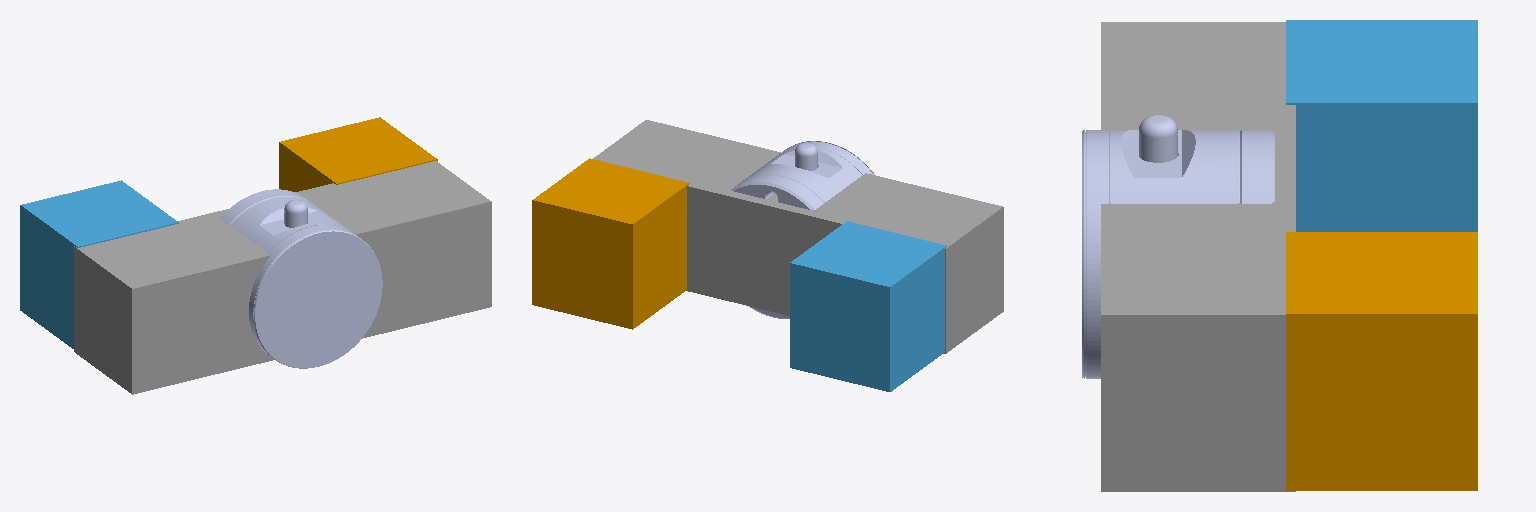
robot.urdf — ur3:
<?xml version="1.0"?>
<robot name="ur3"  xmlns:xacro="http://www.ros.org/wiki/xacro">

  <link name="base_link">
    <visual>
    
      <geometry>
       
        <mesh filename="package://proper_test/meshes/daes/base.dae" />
      </geometry>
    </visual>
    <collision>
    	<geometry>
    		<mesh filename="package://proper_test/meshes/daes/base.dae" />
    	</geometry>
    </collision>
  </link>
  
    <link name="link1">
    <visual>
      <geometry>
        <mesh filename="package://proper_test/meshes/daes/link1.dae" />
      </geometry>
    </visual>
	<collision>
    	<geometry>
    		<mesh filename="package://proper_test/meshes/daes/link1.dae" />
    	</geometry>
    </collision>
  </link>

  <joint name="joint1" type="revolute">
    <parent link="base_link"/>
    <child link="link1"/>
	<limit lower="-3.1415" upper="3.1415" effort="3" velocity="0.1"/>
	<axis xyz="0 0 1"/>
    <origin xyz="0 0 0.0962"/>
  </joint>
  
    
    <link name="link2">
    <visual>
      <geometry>
        <mesh filename="package://proper_test/meshes/daes/link2.dae" />
      </geometry>
    </visual>
	<collision>
    	<geometry>
    		<mesh filename="package://proper_test/meshes/daes/link2.dae" />
    	</geometry>
    </collision>
  </link>
  
    <joint name="joint2" type="revolute">
    <parent link="link1"/>
    <child link="link2"/>
    <origin xyz="0 0.0642 0.0557"/>
    <limit lower="-3.1415" upper="3.1415" effort="3" velocity="0.1"/>
    <axis xyz="0 1 0"/>
  </joint>
  
  
      <link name="link3">
    <visual>
      <geometry>
        <mesh filename="package://proper_test/meshes/daes/link3.dae" />
      </geometry>
    </visual>
	<collision>
    	<geometry>
    		<mesh filename="package://proper_test/meshes/daes/link3.dae" />
    	</geometry>
    </collision>
  </link>
  
    <joint name="joint3" type="revolute">
    <parent link="link2"/>
    <child link="link3"/>
    <origin xyz="0 0.00465 0.2437"/>
    <limit lower="-3.1415" upper="3.1415" effort="3" velocity="0.1"/>
     <axis xyz="0 1 0"/>
  </joint>
  
    <link name="link4">
    <visual>
      <geometry>
        <mesh filename="package://proper_test/meshes/daes/link4.dae" />
      </geometry>
    </visual>
	<collision>
    	<geometry>
    		<mesh filename="package://proper_test/meshes/daes/link4.dae" />
    	</geometry>
    </collision>
  </link>
  
    <joint name="joint4" type="revolute">
    <parent link="link3"/>
    <child link="link4"/>
    <origin xyz="0 0.00286 0.213"/>
    <limit lower="-3.1415" upper="3.1415" effort="3" velocity="0.1"/>
     <axis xyz="0 1 0"/>
  </joint>
  
      <link name="link5">
    <visual>
      <geometry>
        <mesh filename="package://proper_test/meshes/daes/link5.dae" />
      </geometry>
    </visual>
	<collision>
    	<geometry>
    		<mesh filename="package://proper_test/meshes/daes/link5.dae" />
    	</geometry>
    </collision>
  </link>
  
    <joint name="joint5" type="revolute">
    <parent link="link4"/>
    <child link="link5"/>
    <origin xyz="0 0.05949 0.0455"/>
    <limit lower="-3.1415" upper="3.1415" effort="3" velocity="0.1"/>
     <axis xyz="0 0 1"/>
  </joint>
  
    
      <link name="link6">
    <visual>
      <geometry>
        <mesh filename="package://proper_test/meshes/daes/link6.dae" />
      </geometry>
    </visual>
	<collision>
    	<geometry>
    		<mesh filename="package://proper_test/meshes/daes/link6.dae" />
    	</geometry>
    </collision>
  </link>
  
    <joint name="joint6" type="revolute">
    <parent link="link5"/>
    <child link="link6"/>
    <origin xyz="0 0.0430 0.0408"/>
    <limit lower="-3.1415" upper="3.1415" effort="3" velocity="0.1"/>
     <axis xyz="0 1 0"/>
  </joint>
  
        <link name="gripperBase">
    <visual>
      <geometry>
        <mesh filename="package://proper_test/meshes/daes/gripperBase.dae" />
      </geometry>
    </visual>
	<collision>
    	<geometry>
    		<mesh filename="package://proper_test/meshes/daes/gripperBase.dae" />
    	</geometry>
    </collision>
  </link>
  
    <joint name="joint7" type="fixed">
    <parent link="link6"/>
    <child link="gripperBase"/>
    <origin xyz="0 0.004816 -0.00185"/>

  </joint>
  
          <link name="finger1">
    <visual>
      <geometry>
        <mesh filename="package://proper_test/meshes/daes/finger.dae" />
      </geometry>
    </visual>
	<collision>
    	<geometry>
    		<mesh filename="package://proper_test/meshes/daes/finger.dae" />
    	</geometry>
    </collision>
  </link>
  
    <joint name="joint8" type="prismatic">
    <parent link="gripperBase"/>
    <child link="finger1"/>
    <origin xyz="0.0633 0.04704 00.00061"/>
    <limit lower="-0.04" upper="0.0" effort="3" velocity="0.1"/>
  </joint>
  
            <link name="finger2">
    <visual>
  
      <geometry>
        <mesh filename="package://proper_test/meshes/daes/finger.dae" />
      </geometry>
    </visual>
	<collision>
	
    	<geometry>
    		<mesh filename="package://proper_test/meshes/daes/finger.dae" />
    	</geometry>
    </collision>
  </link>
  
    <joint name="joint9" type="prismatic">
    <parent link="gripperBase"/>
    <child link="finger2"/>
    <origin xyz="-0.0633 0.04704 0.00061"/>
    <limit lower="0" upper="0.04" effort="3" velocity="0.1"/>
  </joint>
  
</robot>

--- Facts derived from the render (not from the file) ---
The picture shows the robot from 3 angles, left to right: view 1: azimuth 30°, elevation 25°; view 2: azimuth 150°, elevation 25°; view 3: azimuth 270°, elevation 25°; orthographic projection.
Model ur3 with 10 links and 9 joints (6 revolute, 2 prismatic, 1 fixed), rooted at base_link, posed all joints at 0.
Links seen in each view (by area): view 1: gripperBase, link6, finger2, finger1; view 2: gripperBase, finger2, finger1, link6; view 3: gripperBase, finger1, finger2, link6.
Boxes of the visible links, left/top/right/bottom form: gripperBase: left=74, top=161, right=491, bottom=394; link6: left=220, top=189, right=382, bottom=368; finger2: left=20, top=180, right=178, bottom=348; finger1: left=279, top=117, right=437, bottom=191; gripperBase: left=593, top=120, right=1003, bottom=353; finger2: left=790, top=221, right=946, bottom=391; finger1: left=532, top=158, right=689, bottom=329; link6: left=731, top=141, right=874, bottom=318; gripperBase: left=1101, top=22, right=1295, bottom=491; finger1: left=1286, top=232, right=1477, bottom=490; finger2: left=1286, top=20, right=1477, bottom=231; link6: left=1082, top=115, right=1274, bottom=378.
Bounding box of the posed robot: 0.1765 × 0.1005 × 0.0693 m (x, y, z).
4 mesh visuals loaded from 9 distinct referenced files (3 Collada DAE); not drawn: 6 (reference not matched to a file when rendering).